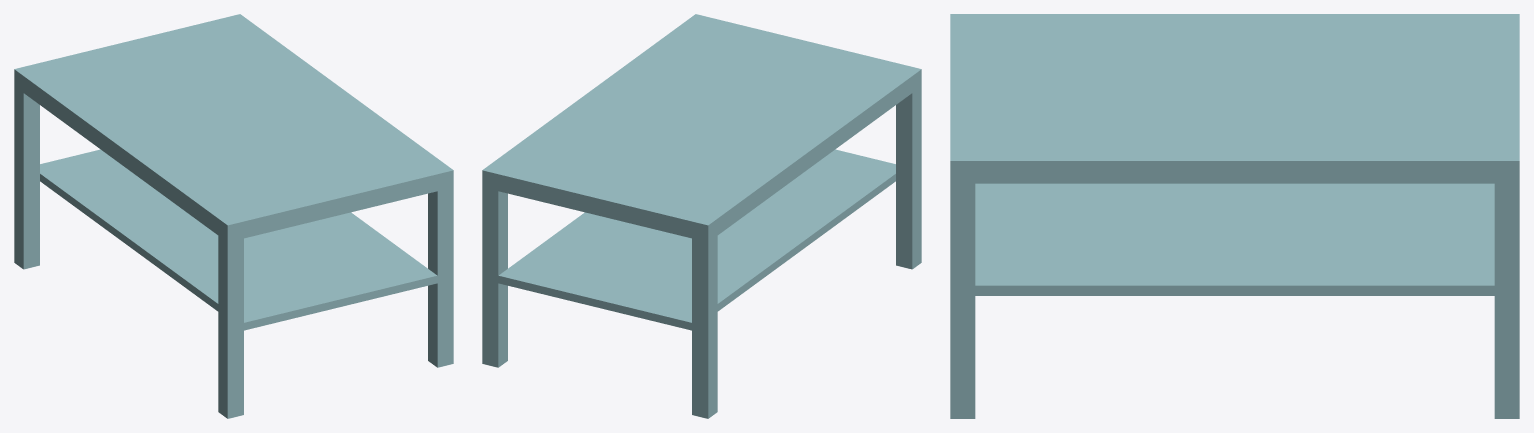
Rendered from lack_table_2_obj0_object.obj.
3 renders of one model, left to right at view 1: azimuth 30°, elevation 25°; view 2: azimuth 150°, elevation 25°; view 3: azimuth 270°, elevation 25°, orthographic. The views are drawn at different scales.
Visible parts, largest first — view 1: Mesh1 Group1 Model; view 2: Mesh1 Group1 Model; view 3: Mesh1 Group1 Model.
Boxes of the visible parts, box(x1,y1,x2,y2) form: Mesh1 Group1 Model: box(14, 14, 453, 418); Mesh1 Group1 Model: box(482, 14, 921, 418); Mesh1 Group1 Model: box(950, 14, 1519, 418).
Size of the model in its own units: 21.65 by 17.72 by 35.43.
